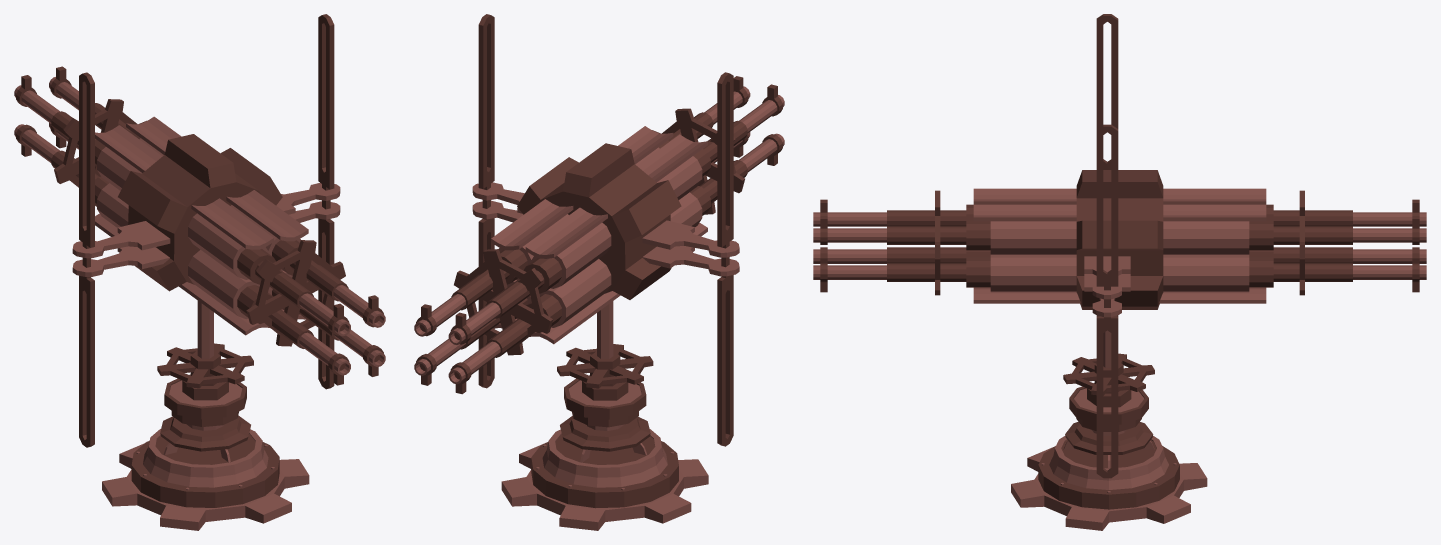
The model's file is gun-10.glb.
3 renders of one model, left to right at view 1: azimuth 30°, elevation 25°; view 2: azimuth 150°, elevation 25°; view 3: azimuth 270°, elevation 25°, orthographic. The views are drawn at different scales.
Visible parts, largest first — view 1: Gun_10_Gun, Gun_10_Base, Gun_10_Mid; view 2: Gun_10_Gun, Gun_10_Base, Gun_10_Mid; view 3: Gun_10_Gun, Gun_10_Base, Gun_10_Mid.
Part boxes in pixels (x1,y1,x2,y2): Gun_10_Gun: (14,14,385,447); Gun_10_Base: (102,374,309,530); Gun_10_Mid: (157,301,253,400); Gun_10_Gun: (414,14,784,446); Gun_10_Base: (501,378,708,530); Gun_10_Mid: (557,301,653,400); Gun_10_Gun: (813,14,1426,478); Gun_10_Base: (1011,383,1207,530); Gun_10_Mid: (1063,315,1154,407).
Bounding box in the file's own units: 2.02 × 3.25 × 4.3.
